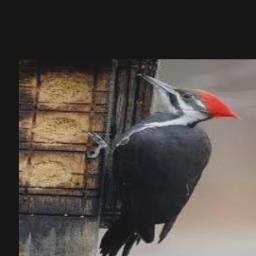Woodpecker: (85, 73, 241, 256)
